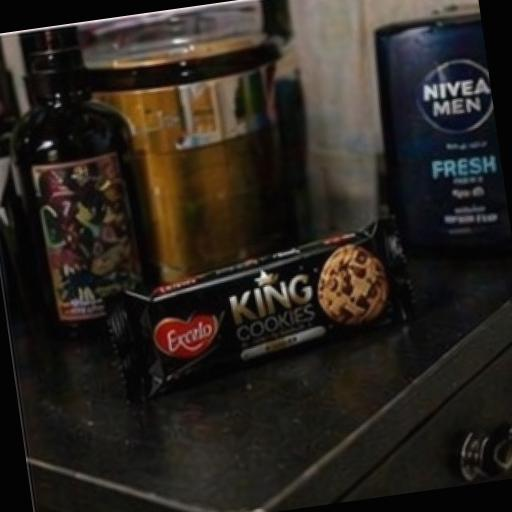king_cooking: (44, 156, 462, 446)
